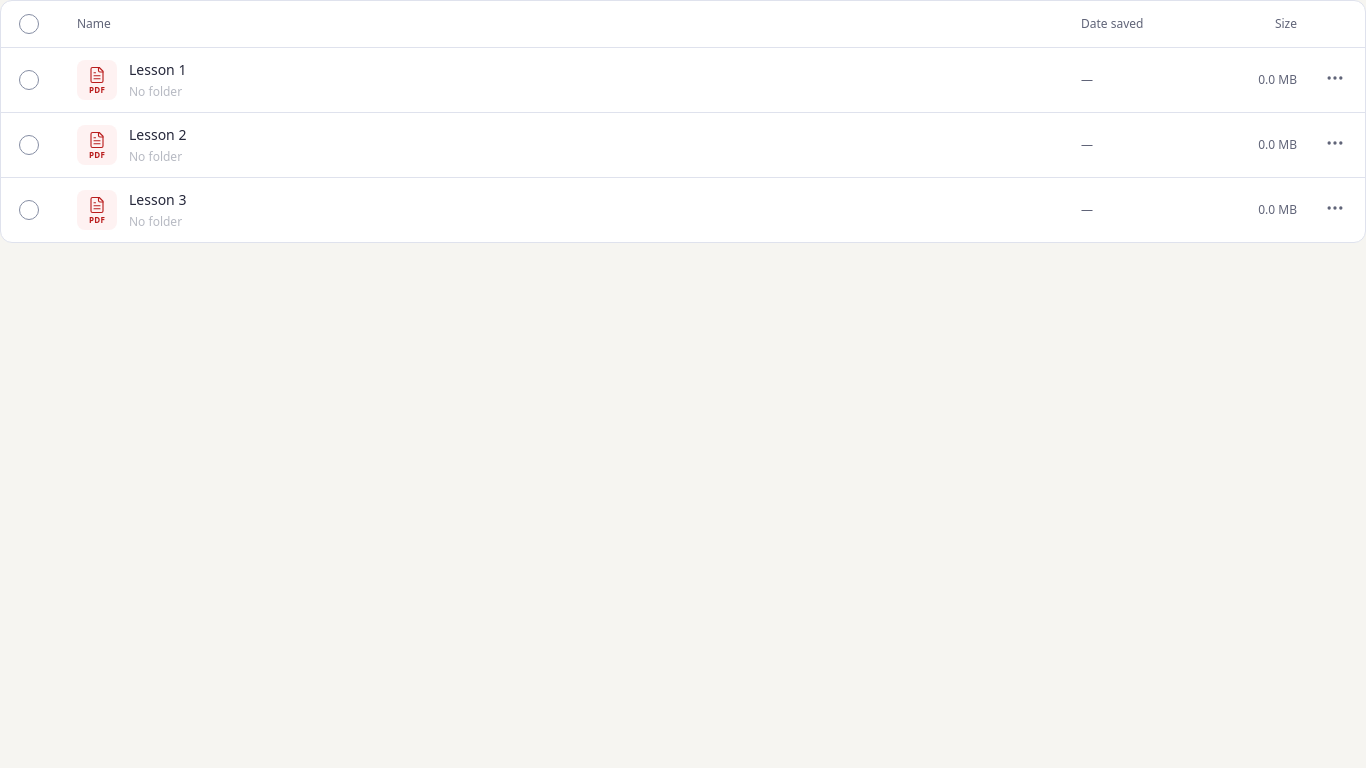
Test case: bulk file controls › requires confirmation and retains only failed files for retry
Click the checkbox named "Select all visible files".
click(29, 24)  # box [19,14,39,34]
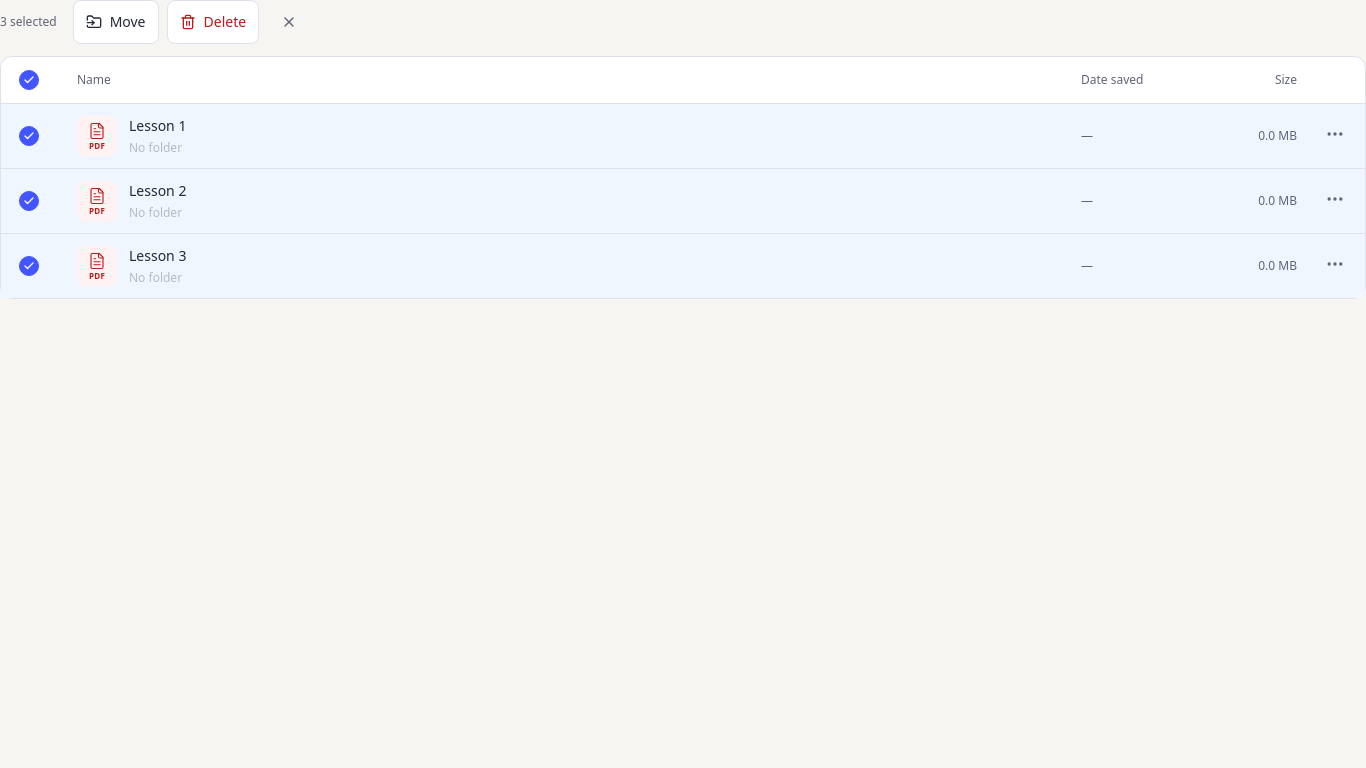
Click the button "Delete".
click(213, 22)  # box [166,0,259,44]
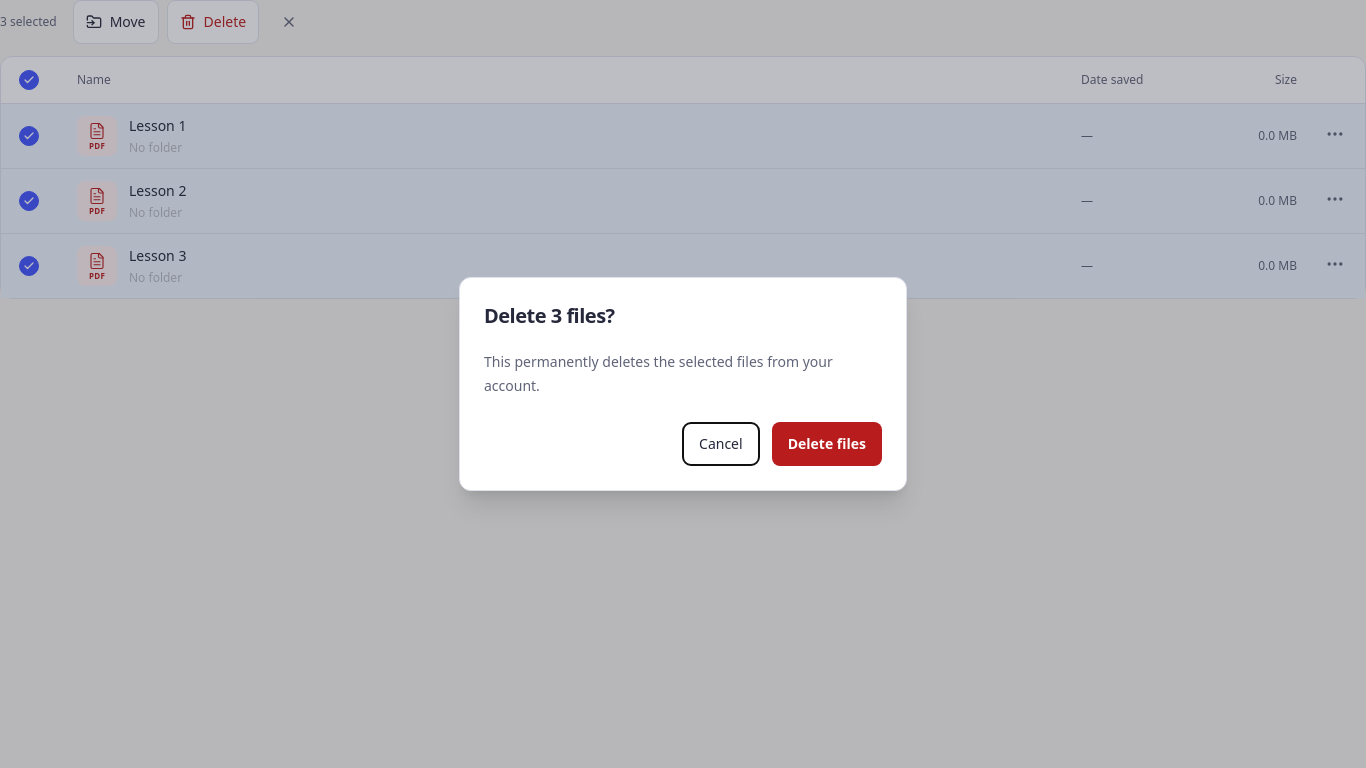
Click the button "Delete files".
click(827, 444)  # box [772,422,882,466]
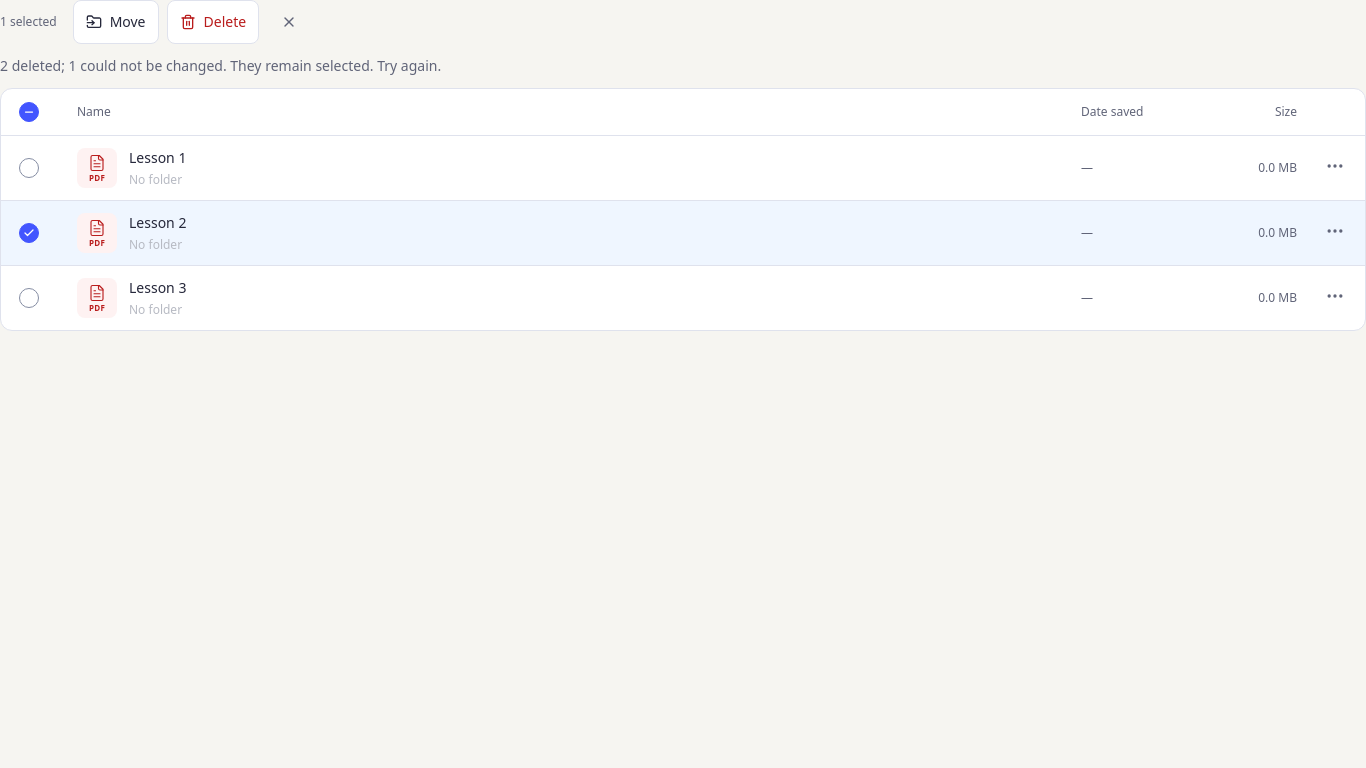
Expected: the checkbox named "Select Lesson 2.pdf" is checked, [19,223,39,243]
Expected: the checkbox named "Select Lesson 1.pdf" is not checked, [19,158,39,178]
Expected: the message shows "1 could not be changed", [0,56,441,75]
